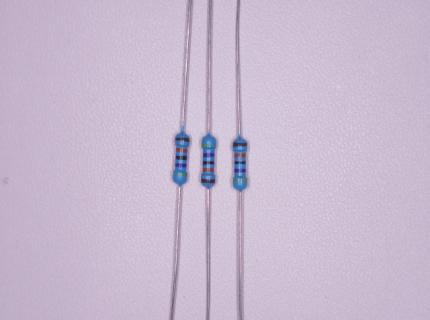Black band: (175, 155, 187, 160), (234, 161, 246, 165), (203, 161, 214, 165)
Brown band: (232, 142, 247, 147), (175, 137, 189, 142), (201, 179, 215, 183)
Orange band: (176, 148, 188, 153), (234, 153, 246, 158), (203, 168, 214, 172)
Violet band: (175, 163, 187, 168), (234, 168, 246, 173), (203, 153, 214, 157)
Yellow band: (233, 178, 247, 183), (202, 144, 216, 148), (173, 173, 187, 177)
